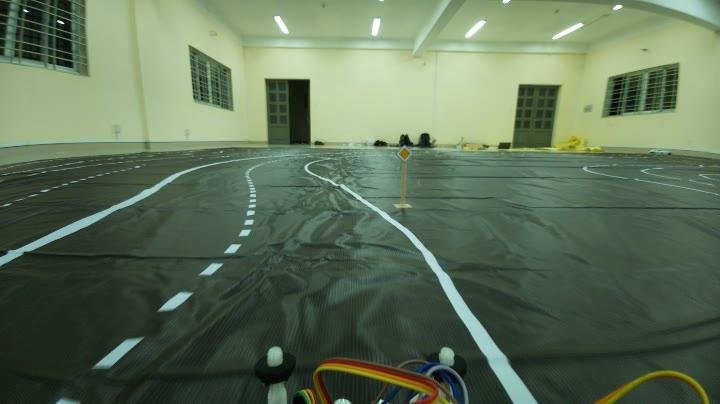priority: (396, 142, 412, 158)
